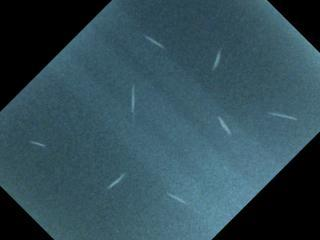scratch: (163, 176, 196, 206), (100, 167, 133, 194), (133, 31, 165, 56), (123, 81, 144, 117), (213, 113, 233, 138), (259, 110, 297, 122), (209, 46, 224, 74), (25, 135, 48, 151)
